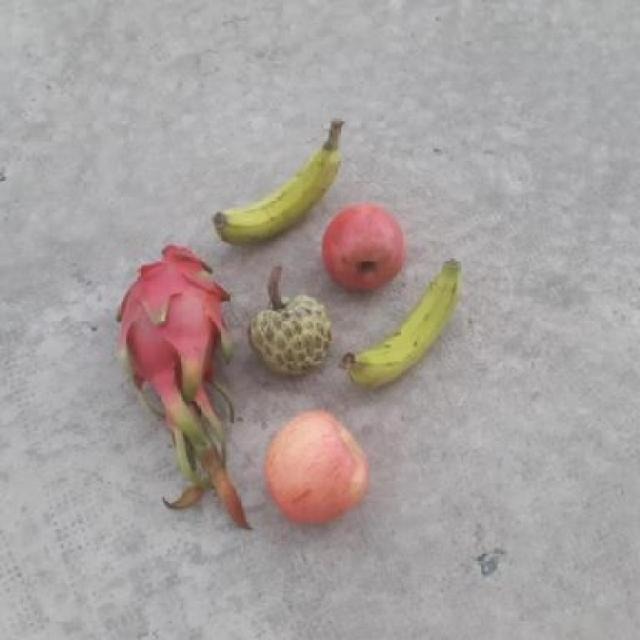apple: (254, 407, 374, 530), (317, 205, 414, 288)
banana: (207, 107, 344, 250), (342, 253, 470, 404)
dragon fruit: (117, 237, 226, 372)
sugar apple: (244, 293, 338, 378)
